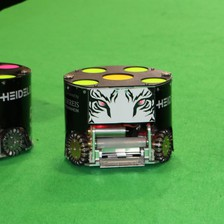robot: (60, 61, 178, 172), (1, 59, 35, 164)
